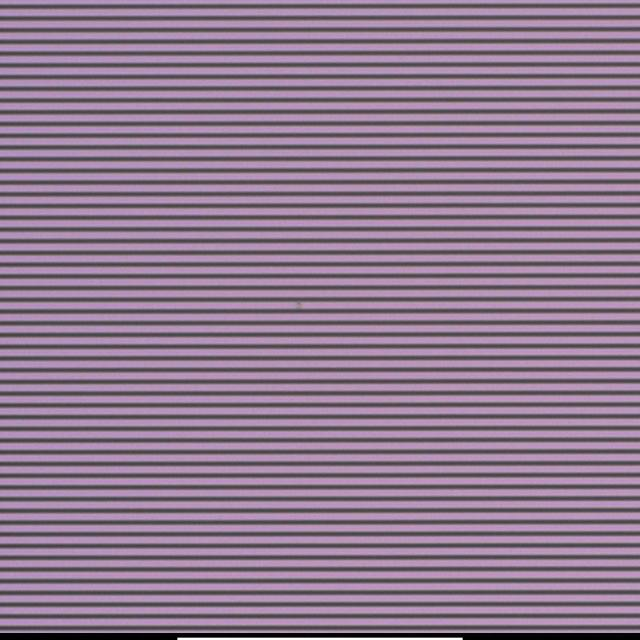nonvisual: (290, 300, 304, 313)
